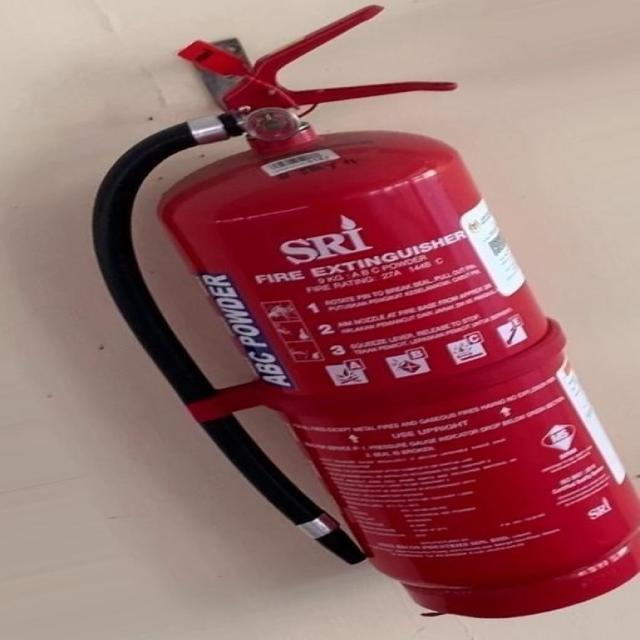fire_extinguisher: (79, 0, 639, 621)
